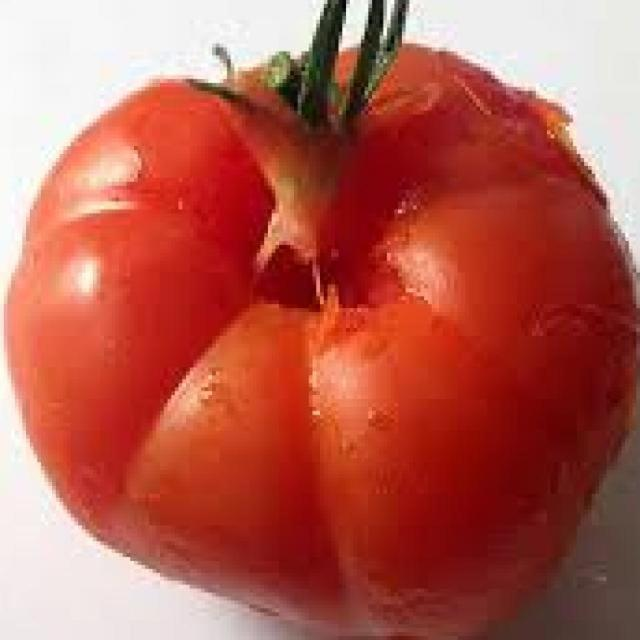Healthy Fruit: (4, 27, 426, 423)
